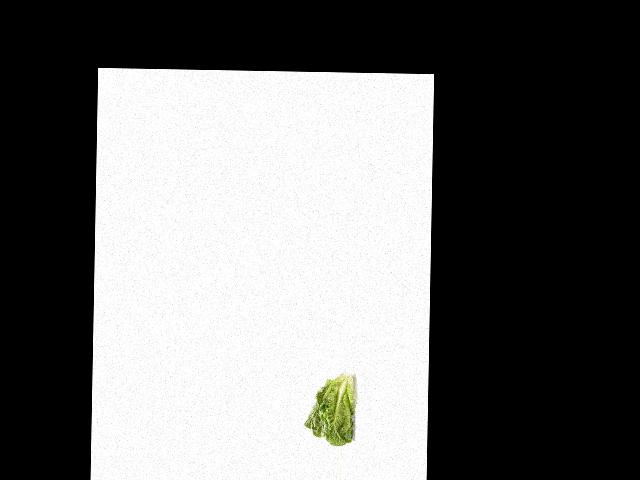lettuce: (303, 368, 366, 446)
